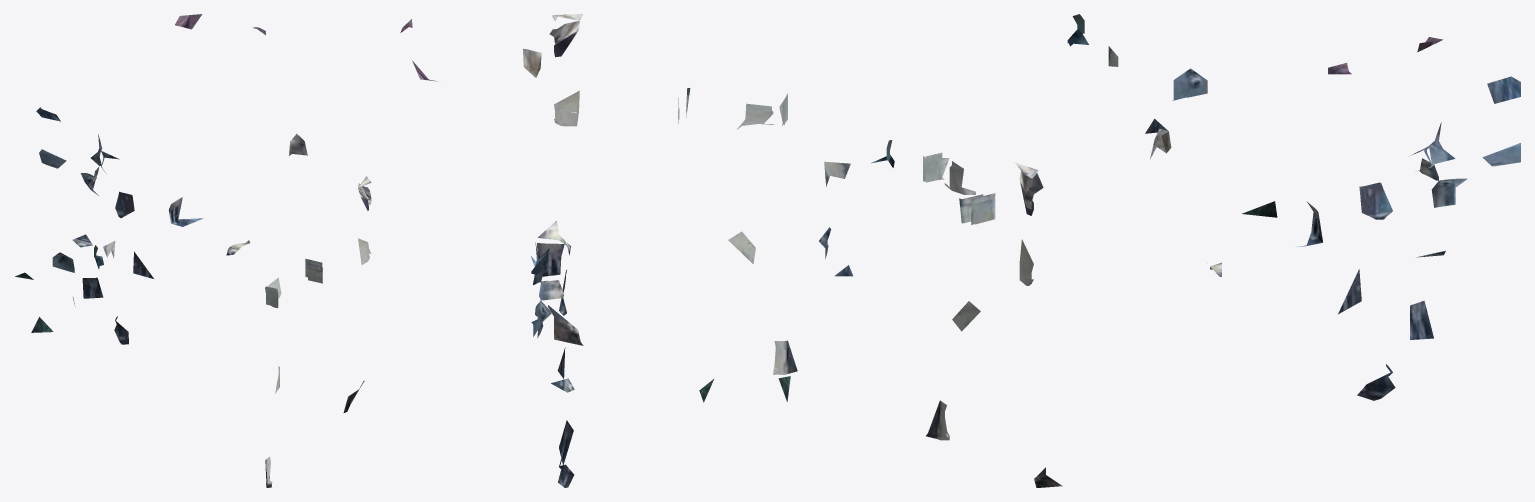
3 renders of one model, left to right at view 1: azimuth 30°, elevation 25°; view 2: azimuth 150°, elevation 25°; view 3: azimuth 270°, elevation 25°, orthographic. The views are drawn at different scales.
Parts seen in each view (by area): view 1: 30436272704361607715_1; view 2: 30436272704361607715_1; view 3: 30436272704361607715_1.
Boxes of the visible parts, x1,y1,x2,y2 form: 30436272704361607715_1: [15, 14, 371, 487]; 30436272704361607715_1: [400, 14, 894, 487]; 30436272704361607715_1: [923, 14, 1520, 487].
Size of the model in its own units: 27.31 by 32.82 by 38.26.
1 material, 1 textured.
